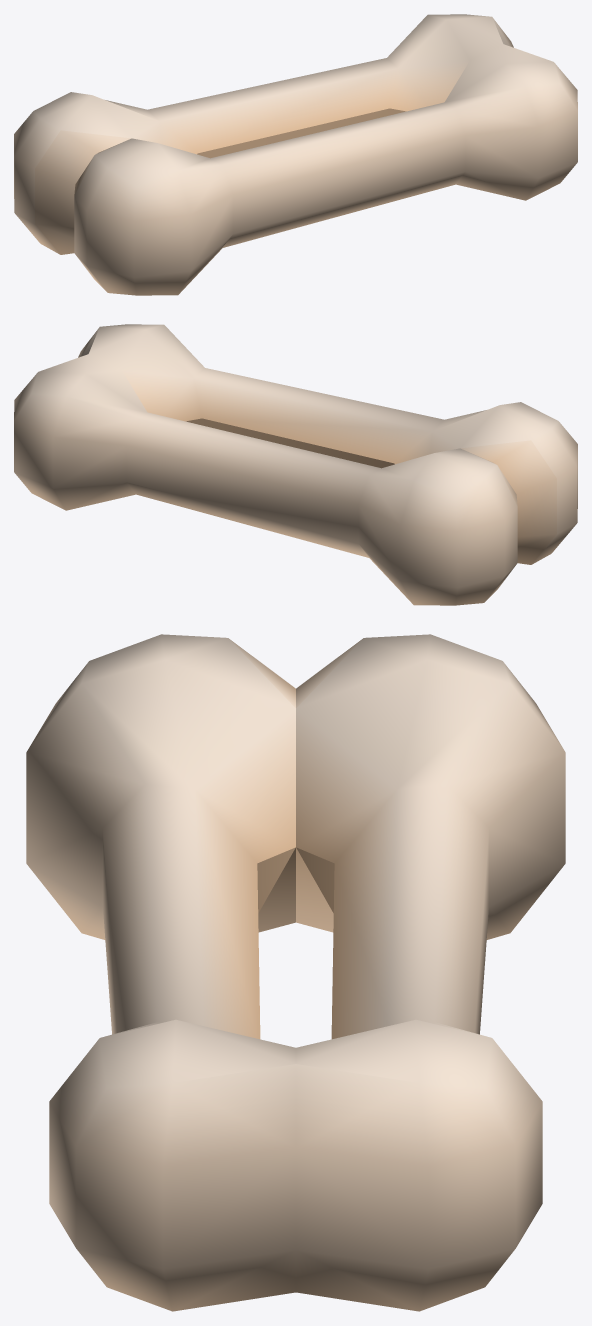
File: bone_B.glb
3 renders of one model, top to bottom at view 1: azimuth 30°, elevation 25°; view 2: azimuth 150°, elevation 25°; view 3: azimuth 270°, elevation 25°, orthographic. The views are drawn at different scales.
Parts seen in each view (by area): view 1: bone_B; view 2: bone_B; view 3: bone_B.
Boxes of the visible parts, box(x1,y1,x2,y2) form: bone_B: box(14, 14, 577, 295); bone_B: box(14, 324, 577, 605); bone_B: box(26, 634, 565, 1311).
Size of the model in its own units: 0.6063 by 0.1747 by 0.2867.
Materials: 1 (1 with a texture image).
